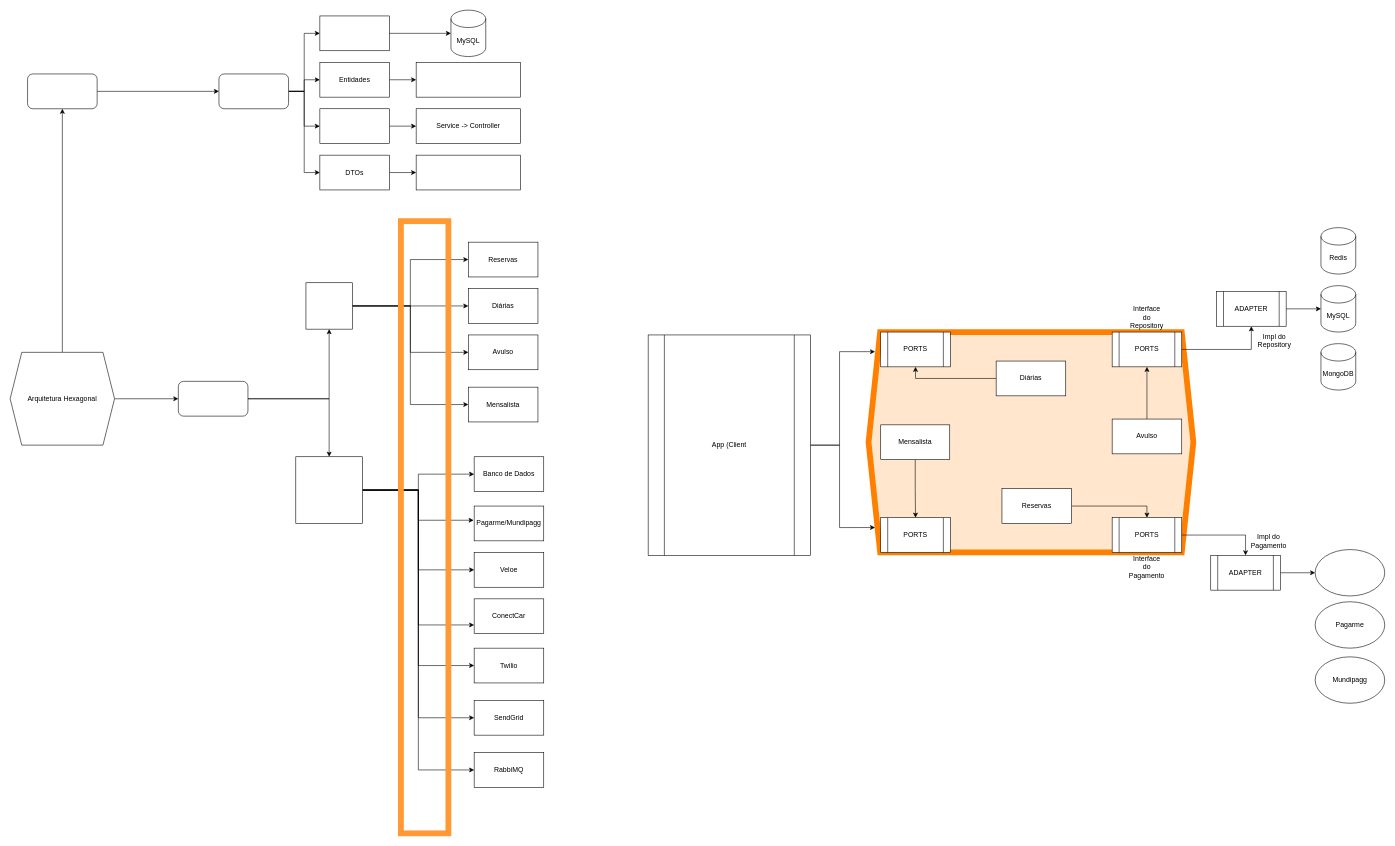
Image size: 1395x846. Some labels were removed from this diagram. Each missing label, with the box of its shape:
As Camadas definem suas necessidades: (218, 73, 289, 109)
Comunicações externas ISOLADAS e INDEPENDENTES: (295, 456, 362, 523)
Controller -> Client: (416, 155, 521, 190)
Core muito bem definido: (305, 282, 352, 329)
Dados: (27, 73, 97, 109)
Domain (Core): (416, 62, 521, 97)
Domain Valeti: (865, 329, 1196, 555)
Gateway: (1315, 549, 1385, 596)
Models: (319, 15, 389, 51)
Negócio: (178, 381, 248, 416)
Valeti: (398, 218, 451, 836)
Views: (319, 108, 389, 144)
